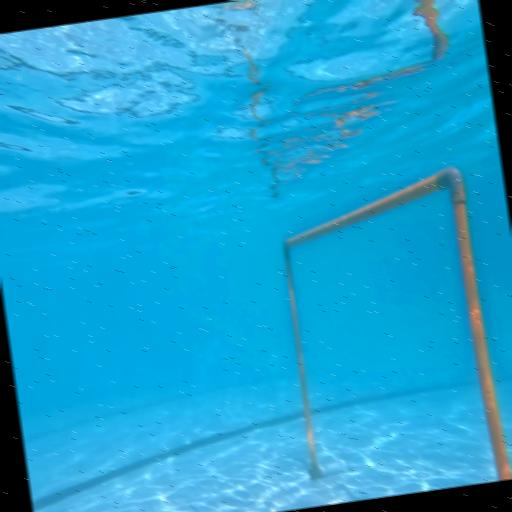gate: (268, 161, 512, 506)
